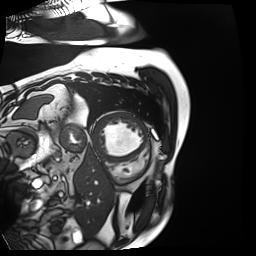ventricle: (103, 123, 143, 157)
